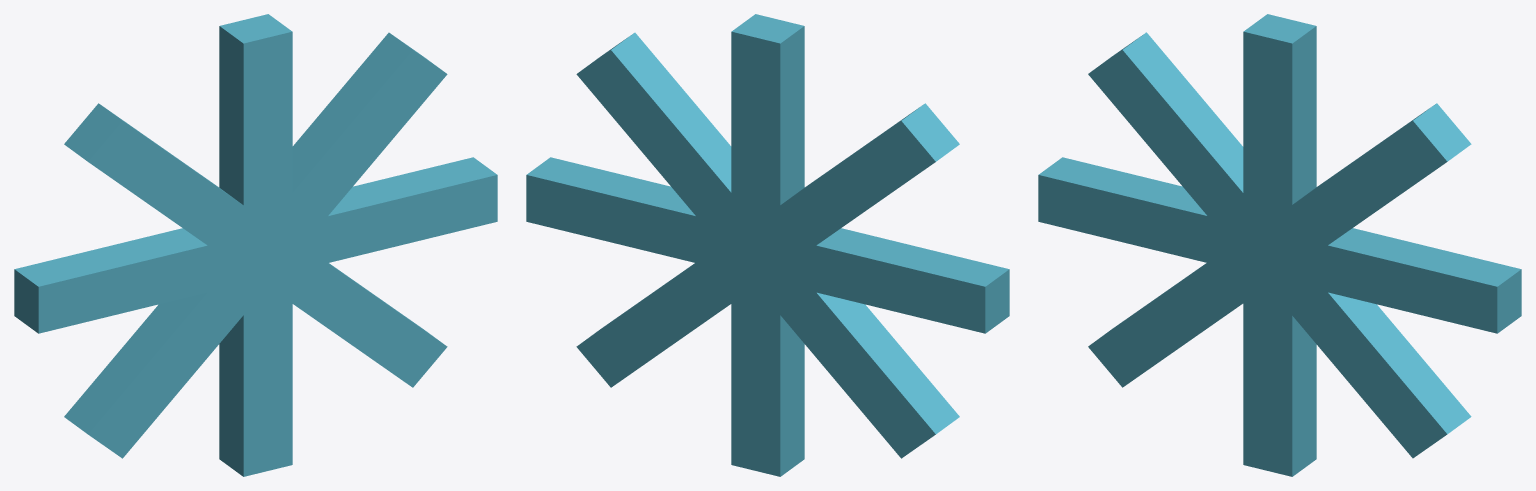
The model's file is star.glb.
3 renders of one model, left to right at view 1: azimuth 30°, elevation 25°; view 2: azimuth 150°, elevation 25°; view 3: azimuth 330°, elevation 25°, orthographic.
Visible parts, largest first — view 1: Mesh_Mesh_head_geo.001_lambert2SG.001; view 2: Mesh_Mesh_head_geo.001_lambert2SG.001; view 3: Mesh_Mesh_head_geo.001_lambert2SG.001.
Boxes of the visible parts, box(x1,y1,x2,y2) form: Mesh_Mesh_head_geo.001_lambert2SG.001: box(14, 14, 497, 476); Mesh_Mesh_head_geo.001_lambert2SG.001: box(526, 14, 1009, 476); Mesh_Mesh_head_geo.001_lambert2SG.001: box(1038, 14, 1521, 476).
Size of the model in its own units: 0.44 by 0.397 by 0.04.
